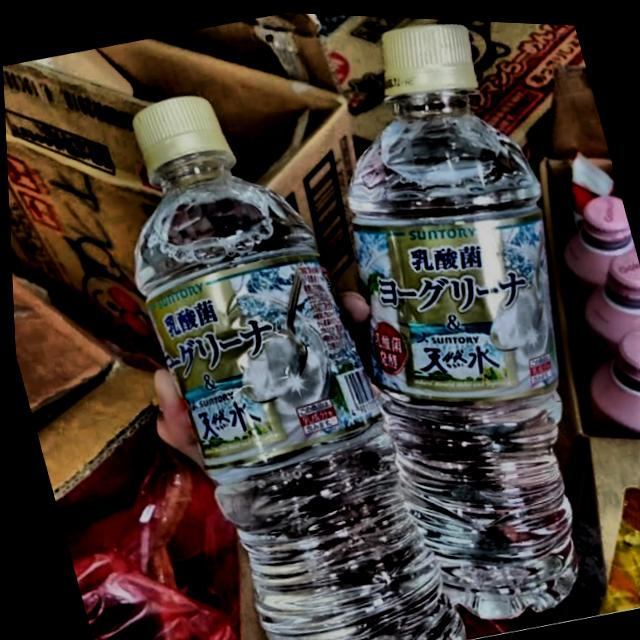Bottles: (64, 48, 469, 640), (265, 9, 640, 640)
